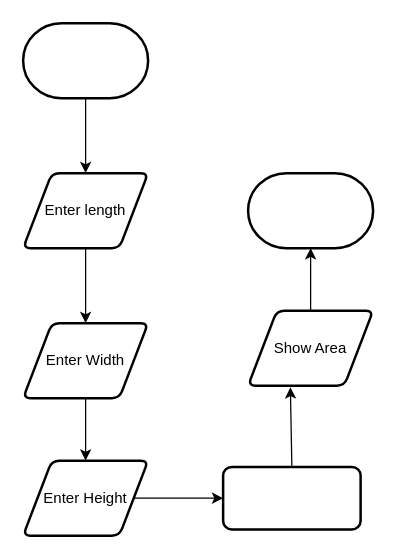
Some shapes in this 395 by 558 pixel diagram are drawn without their labels. Here are the shapes that lost their labels. From the top down, the centre of each, then its label:
At pixel 85 60: "Start".
At pixel 291 497: "area = (L x W x H) / 3".
